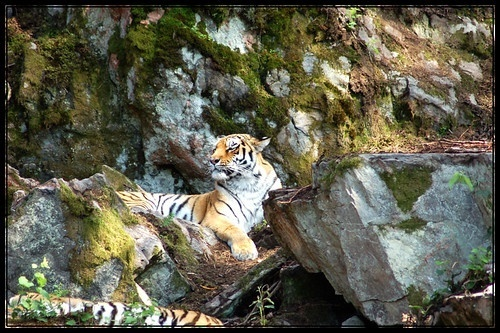tigre: (94, 129, 288, 264)
